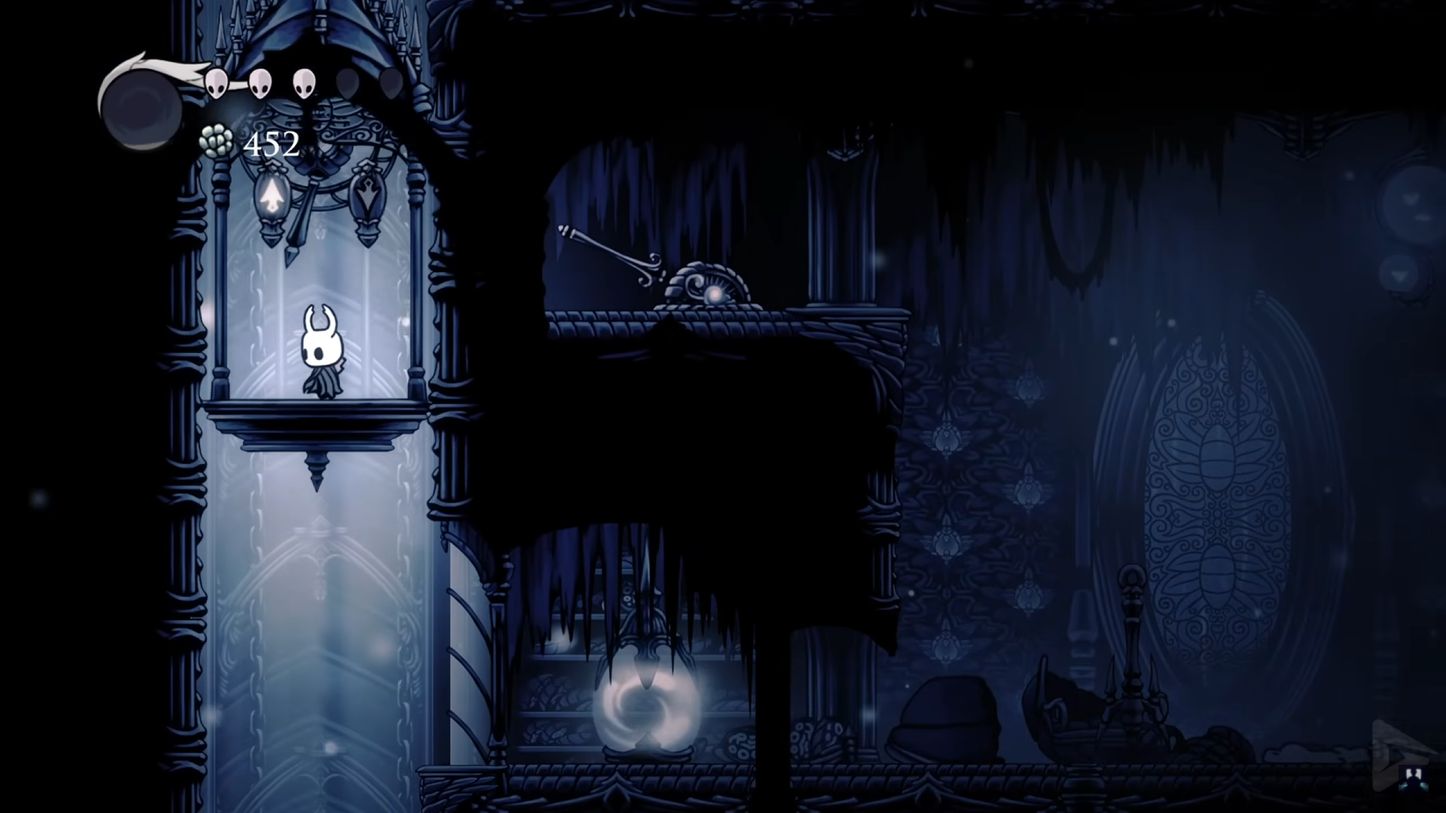HK: (295, 298, 352, 400)
